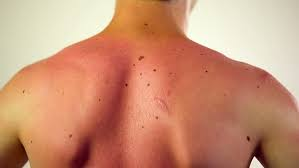mole: (135, 53, 147, 64), (241, 133, 252, 145), (151, 113, 163, 123), (201, 66, 212, 76), (140, 20, 151, 29), (65, 131, 75, 140), (122, 81, 132, 90), (254, 82, 263, 92), (143, 81, 154, 89), (19, 87, 28, 96), (26, 138, 36, 145), (151, 66, 158, 75), (136, 70, 145, 77)
